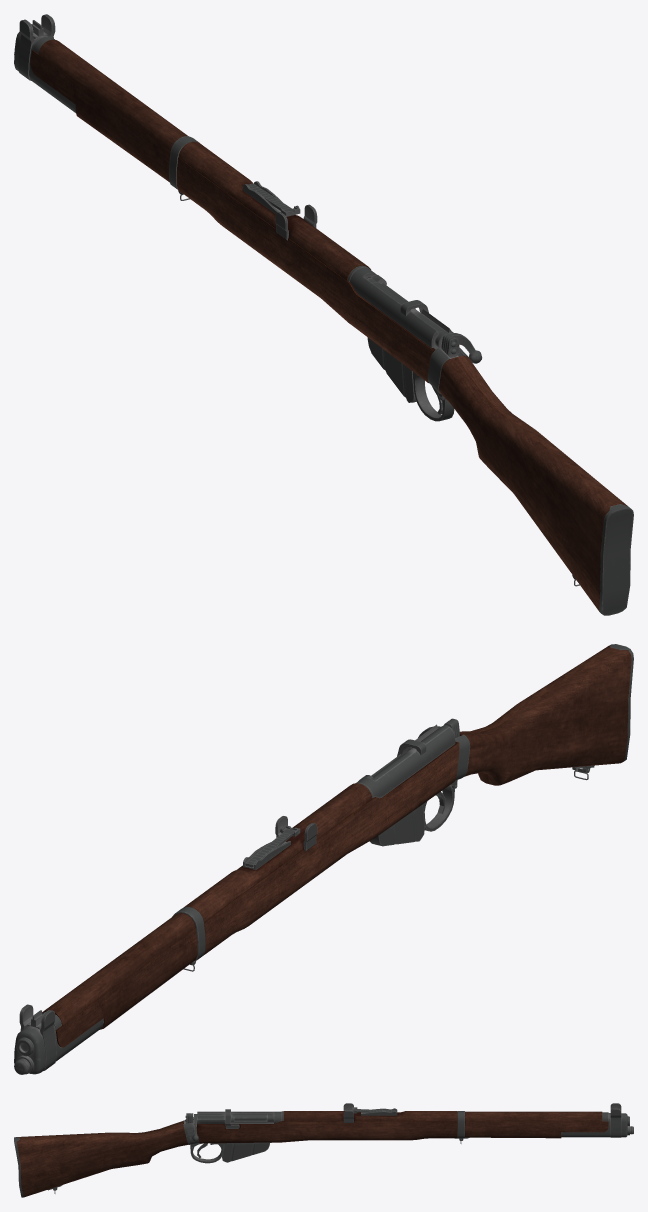
File: lee_enfield_rifle_game-ready.glb
3 views of the same model, one above another, from view 1: azimuth 30°, elevation 25°; view 2: azimuth 150°, elevation 25°; view 3: azimuth 270°, elevation 25° (orthographic). The views are drawn at different scales.
Visible parts, largest first — view 1: Cube_Low, Cube.002_High.003, Circle_Low, Cube.012_Low, Circle.002_Low, Cube.016_Low, Cylinder_Low, Slice_Low, Cube.014_Low, Plane.001_Low; view 2: Cube_Low, Cube.002_High.003, Circle_Low, Cube.012_Low, Circle.002_Low, Cylinder_Low, Cube.013_Low, Slice_Low, Cube.014_Low; view 3: Cube_Low, Cube.002_High.003, Cube.012_Low, Circle_Low, Circle.002_Low, Cylinder_Low, Slice_Low, Cube.013_Low, Cube.014_Low, Cylinder.001_Low, Cube001_Low, Plane.001_Low (+5 smaller).
Boxes of the visible parts, box(x1,y1,x2,y2) form: Cube_Low: box(438, 356, 627, 611); Cube.002_High.003: box(176, 157, 459, 382); Circle_Low: box(178, 141, 370, 280); Cube.012_Low: box(30, 50, 170, 182); Circle.002_Low: box(38, 39, 187, 150); Cube.016_Low: box(599, 504, 633, 615); Cylinder_Low: box(347, 265, 453, 349); Slice_Low: box(367, 337, 416, 402); Cube.014_Low: box(18, 14, 55, 80); Plane.001_Low: box(412, 371, 454, 421); Cube_Low: box(460, 645, 631, 785); Cube.002_High.003: box(204, 742, 459, 954); Circle_Low: box(183, 783, 372, 921); Cube.012_Low: box(55, 928, 197, 1047); Circle.002_Low: box(42, 913, 195, 1025); Cylinder_Low: box(356, 724, 455, 798); Cube.013_Low: box(14, 1018, 103, 1074); Slice_Low: box(369, 804, 424, 846); Cube.014_Low: box(19, 1004, 56, 1070); Cube_Low: box(16, 1121, 188, 1197); Cube.002_High.003: box(196, 1121, 457, 1143); Cube.012_Low: box(465, 1121, 608, 1138); Circle_Low: box(283, 1111, 457, 1121); Circle.002_Low: box(465, 1111, 602, 1121); Cylinder_Low: box(197, 1111, 283, 1124); Slice_Low: box(222, 1143, 269, 1162); Cube.013_Low: box(561, 1113, 627, 1137); Cube.014_Low: box(610, 1103, 621, 1137); Cylinder.001_Low: box(198, 1114, 267, 1122); Cube001_Low: box(183, 1120, 199, 1144); Plane.001_Low: box(190, 1143, 224, 1163).
Bounding box in the file's own units: 112 × 354 × 2222.
Materials: 1 (1 with a texture image).
